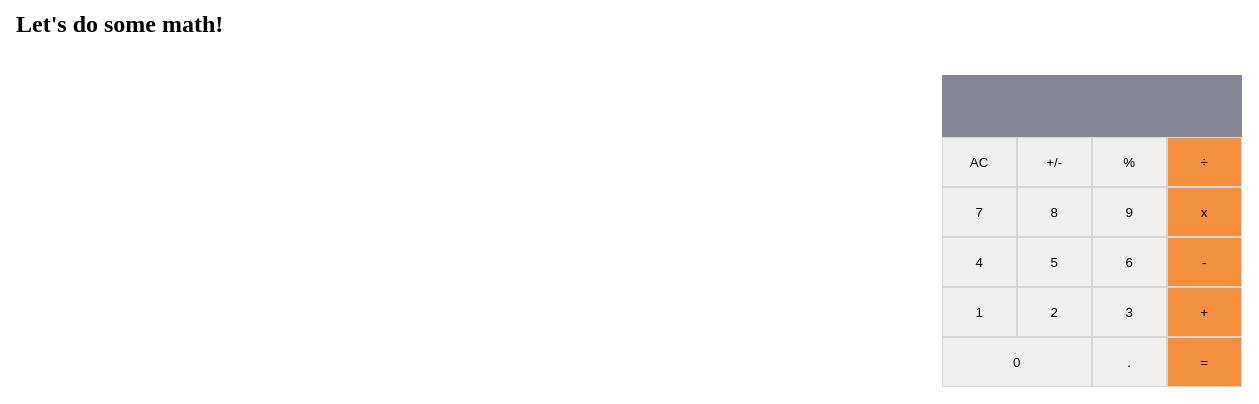
Calculator ui tests › should render and make calculation
The image size is (1259, 404).
Click the button "1" at (979, 312), box [942,287,1017,337]
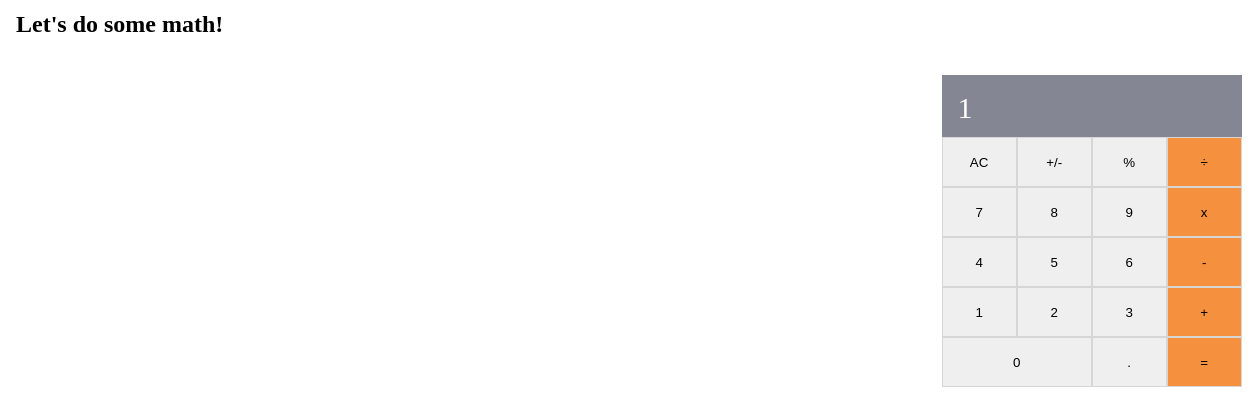
Click the button "x" at (1204, 212), box [1167,187,1242,237]
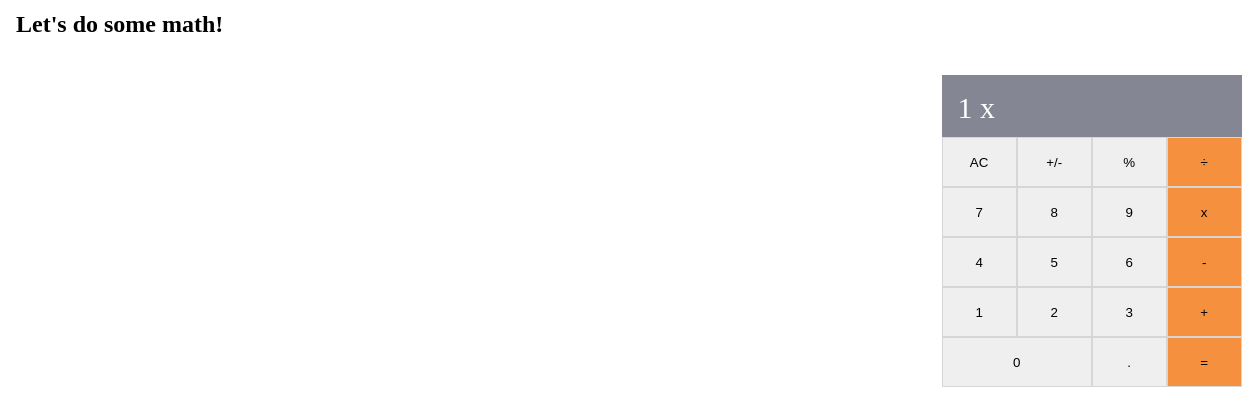
Click the button "2" at (1054, 312), box [1017,287,1092,337]
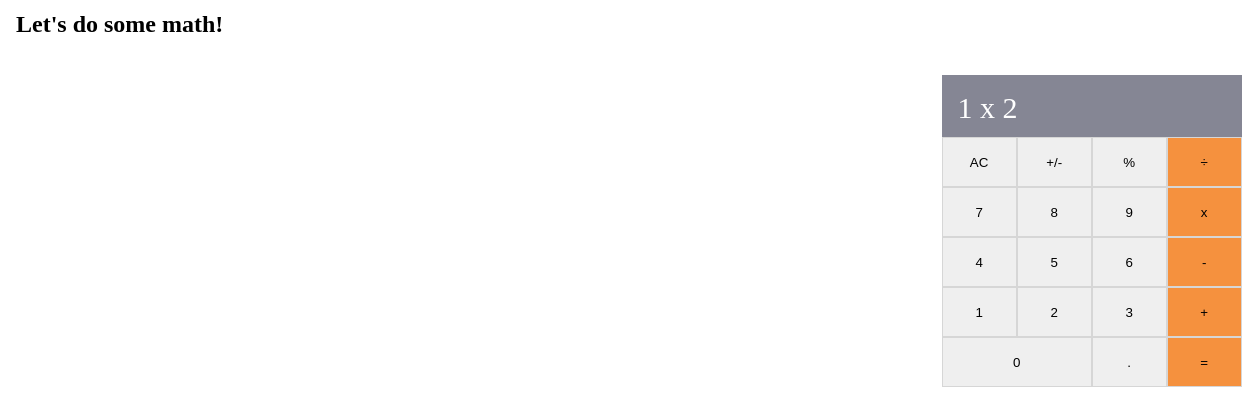
Click the button "=" at (1204, 362), box [1167,337,1242,387]
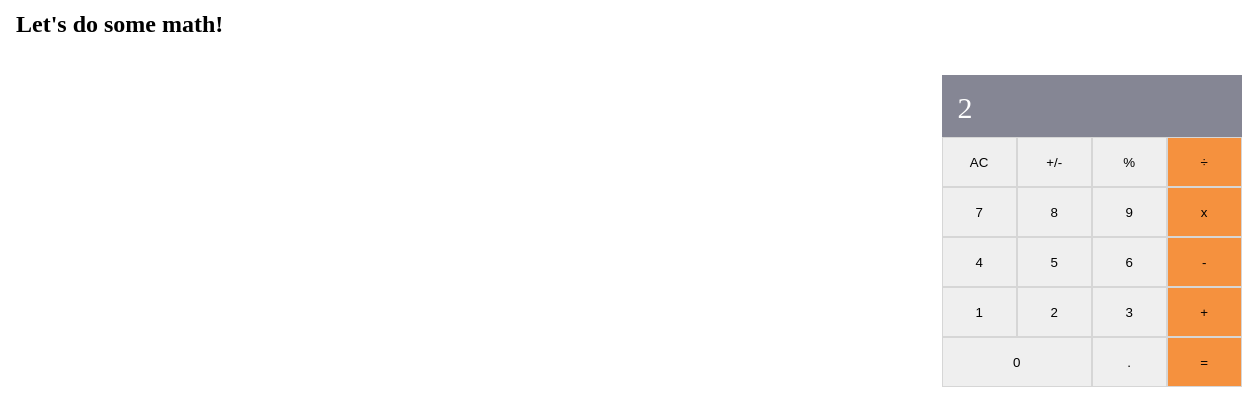
Expected: the text with test id "total" reads "2", [958,91,973,124]
